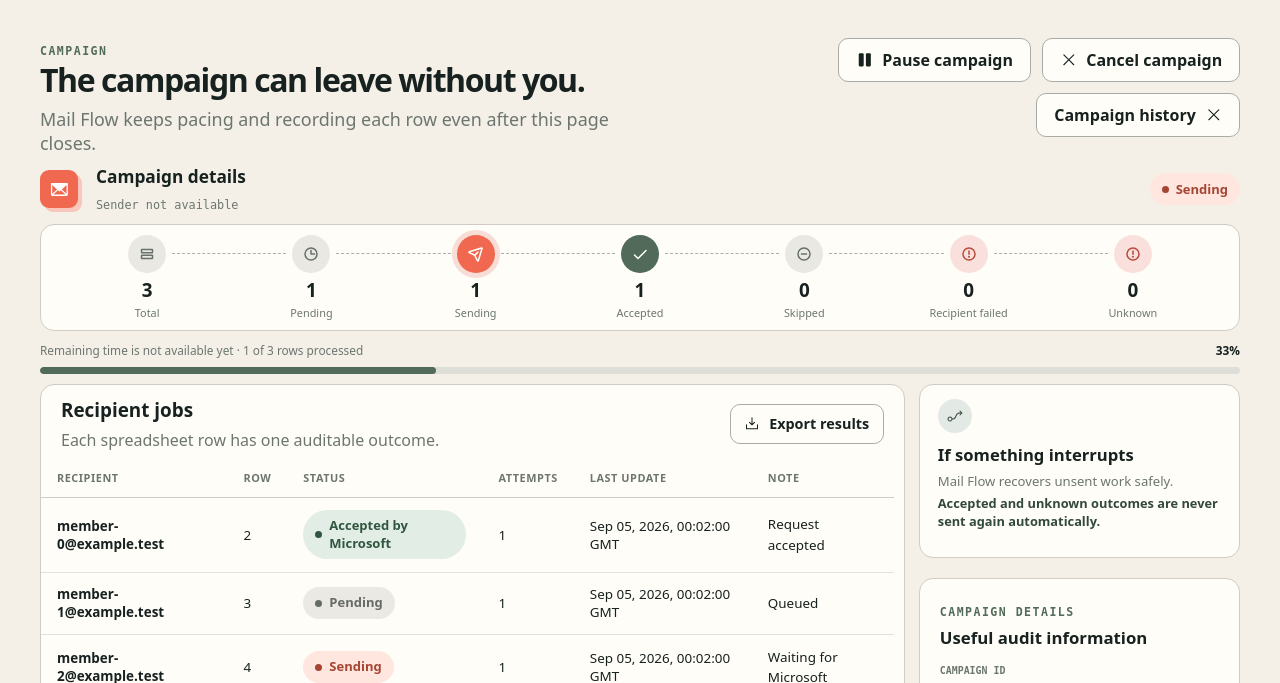
Test: campaign cancellation and activity clarity › confirms permanent cancellation and keeps an in-flight outcome visible
Click the button "Cancel campaign" at [1141, 60], box top-left (1042, 38), bottom-right (1240, 82)
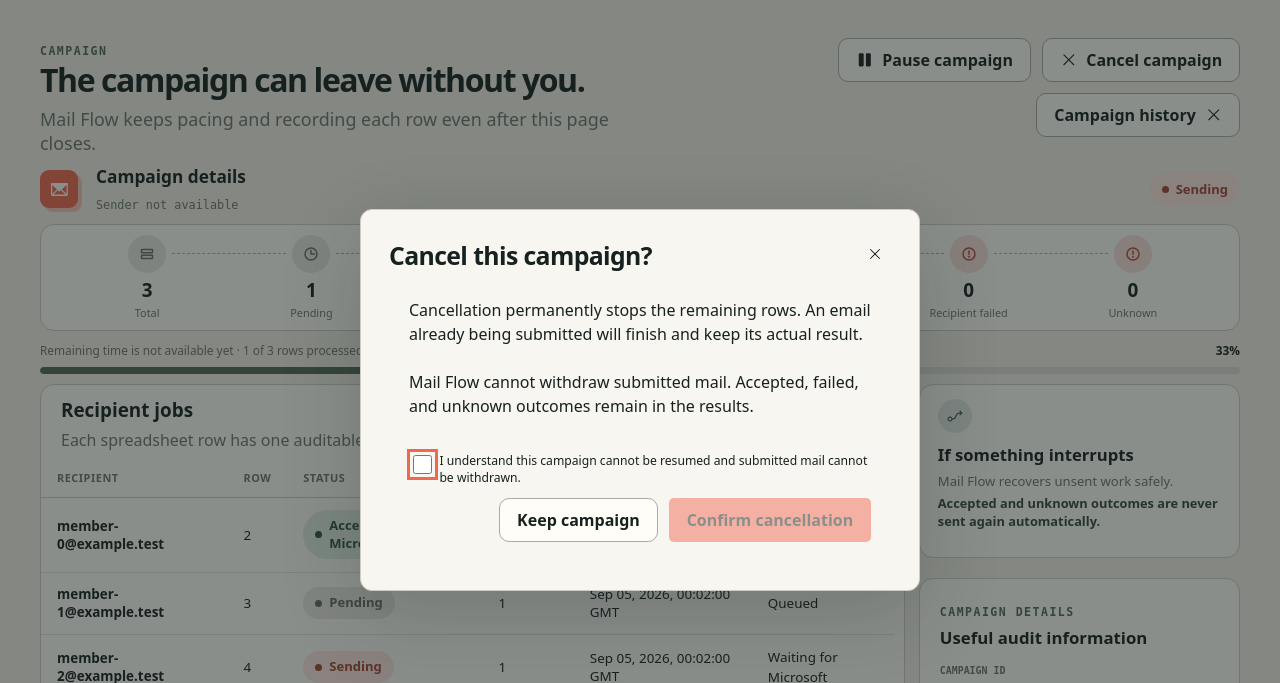
Check: the button "Confirm cancellation" is disabled, box top-left (669, 498), bottom-right (871, 542)
Check: the text "cannot withdraw submitted mail" is shown, box top-left (409, 371), bottom-right (859, 417)
Click the checkbox at [422, 464], box top-left (413, 455), bottom-right (432, 474)
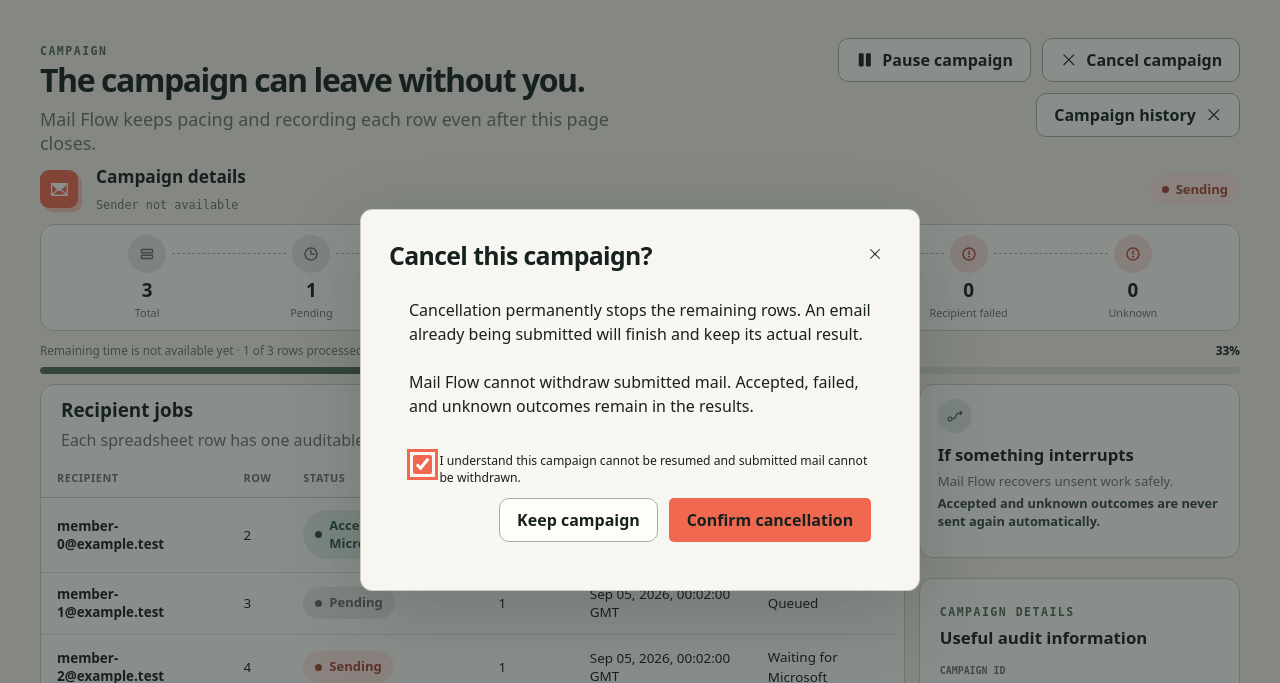
Click the button "Confirm cancellation" at [770, 520], box top-left (669, 498), bottom-right (871, 542)
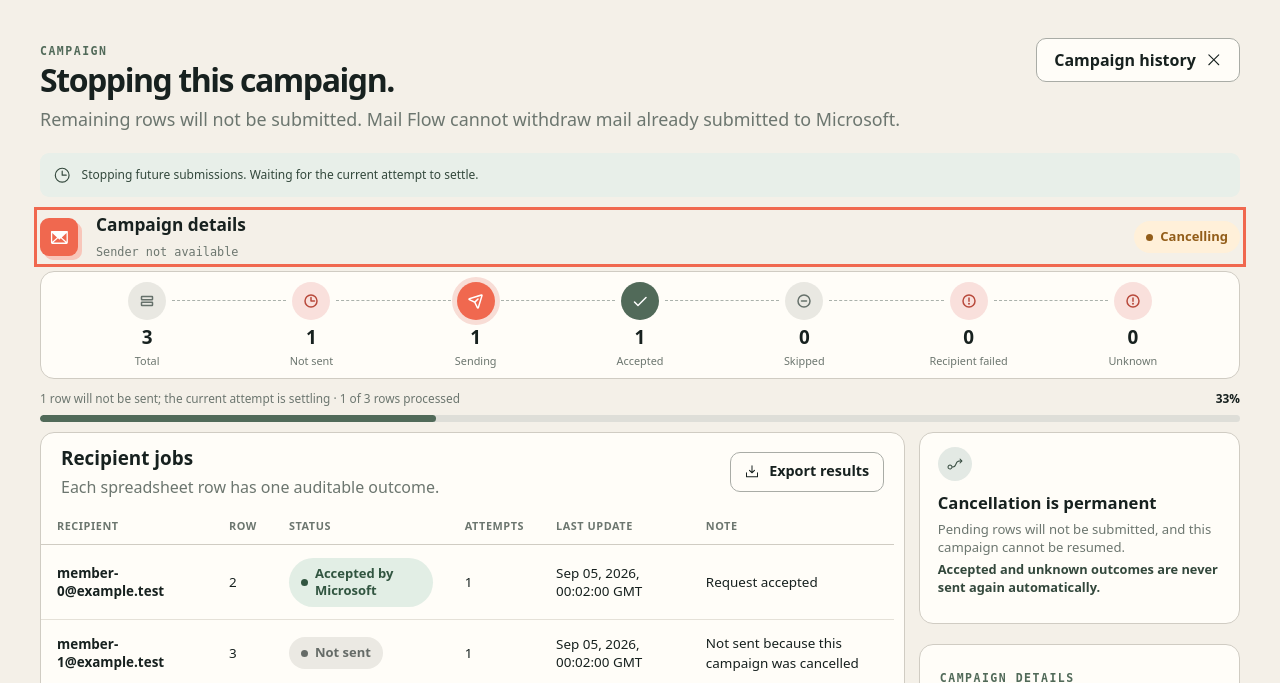
Check: the text "Cancelling" is shown, box top-left (1134, 221), bottom-right (1240, 253)
Check: the dialog is gone
Check: the text "Not sent because this campaign was cancelled" is shown, box top-left (706, 633), bottom-right (878, 673)
